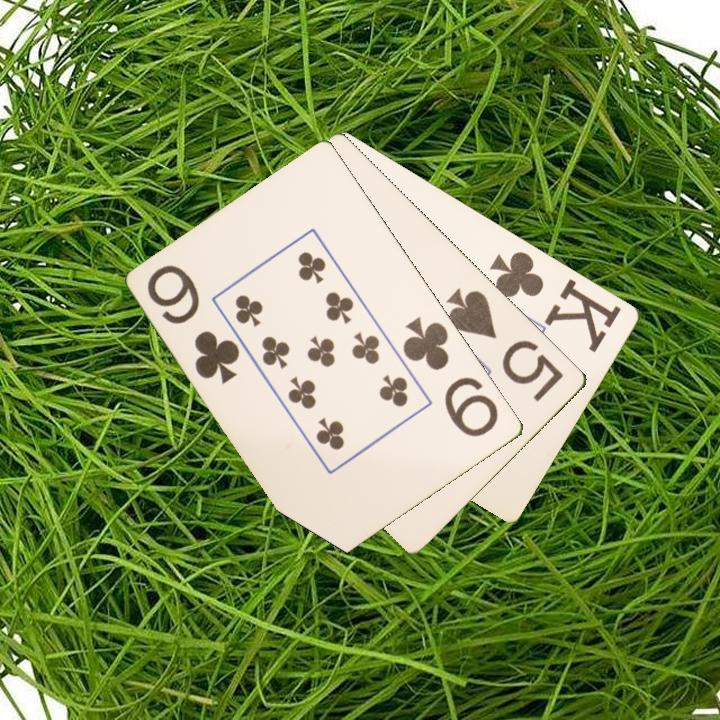5s: (443, 284, 567, 405)
9c: (399, 313, 503, 440), (144, 261, 244, 387)
Kc: (486, 247, 625, 354)
